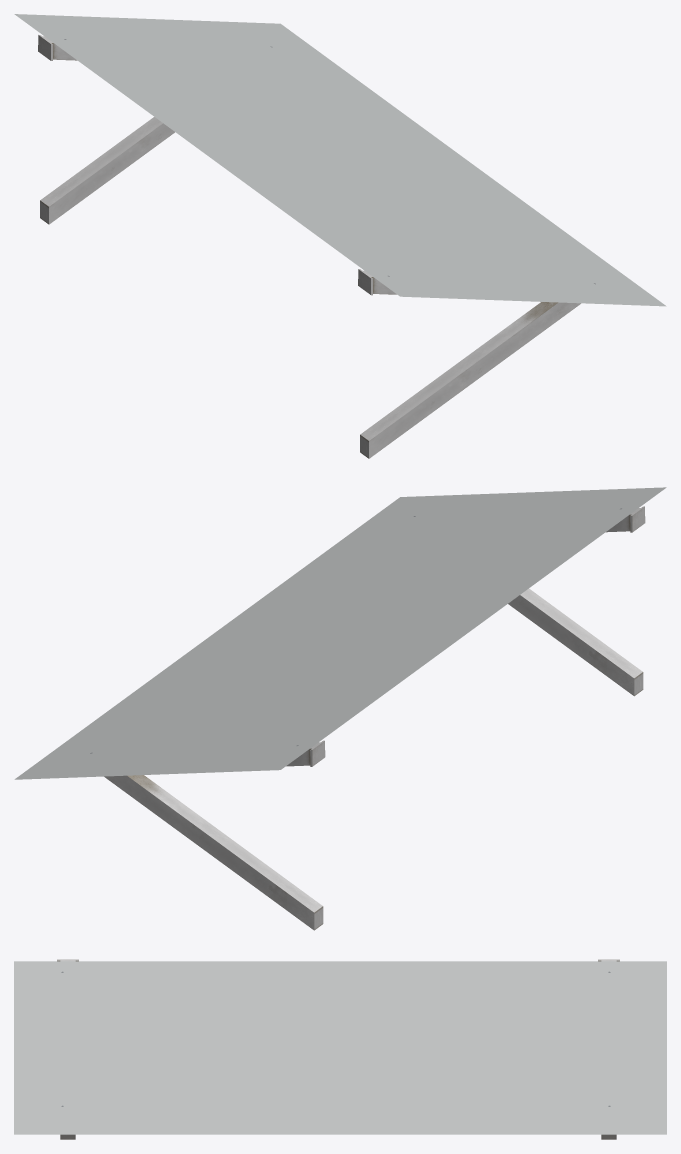
File: otliv.fbx
3 renders of one model, top to bottom at view 1: azimuth 30°, elevation 25°; view 2: azimuth 150°, elevation 25°; view 3: azimuth 270°, elevation 25°, orthographic. The views are drawn at different scales.
Visible parts, largest first — view 1: profile.002; view 2: profile.002; view 3: profile.002.
Part boxes in pixels (x1,y1,x2,y2): profile.002: [14, 14, 666, 458]; profile.002: [14, 487, 666, 930]; profile.002: [14, 959, 666, 1139].
Bounding box in the file's own units: 114 × 73.24 × 282.
